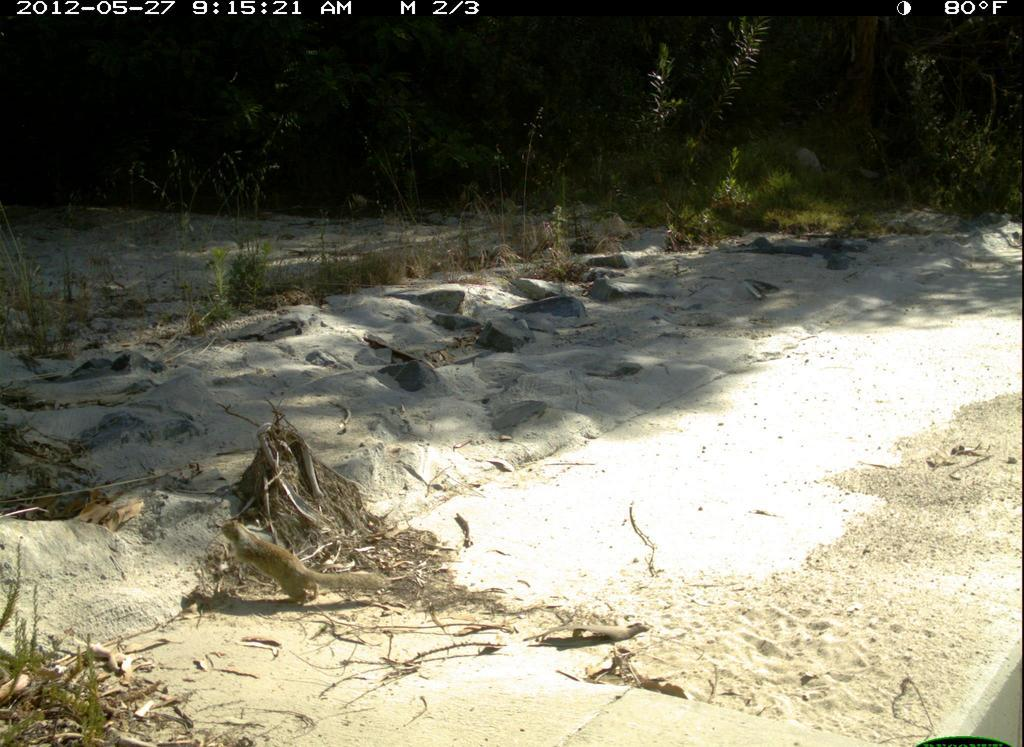squirrel: (199, 500, 413, 629)
